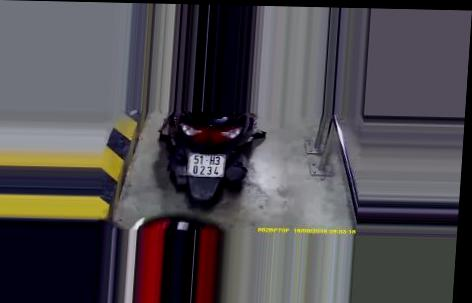License_Plate: (184, 149, 228, 179)
